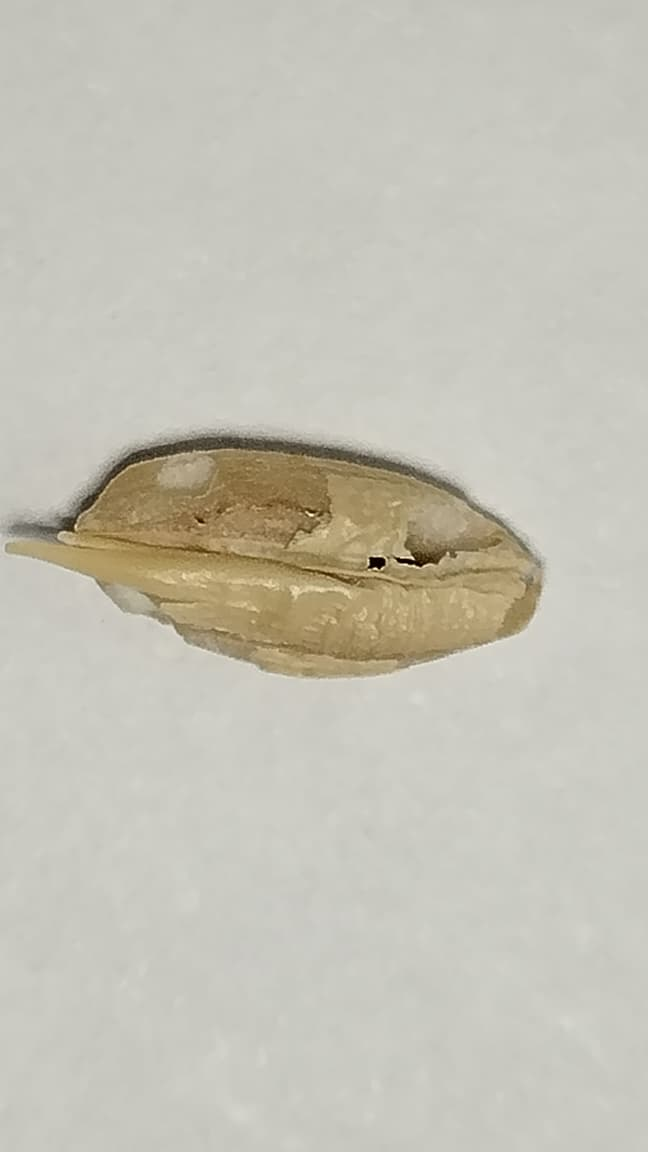healthy-70-60: (8, 441, 540, 675)
insectdamage: (330, 470, 522, 570), (160, 447, 224, 494), (102, 583, 157, 615)
